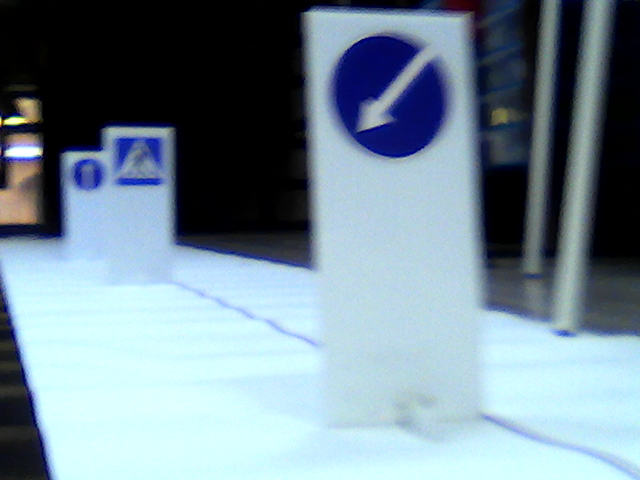pesh: (114, 137, 164, 189)
prep: (331, 30, 453, 161)
